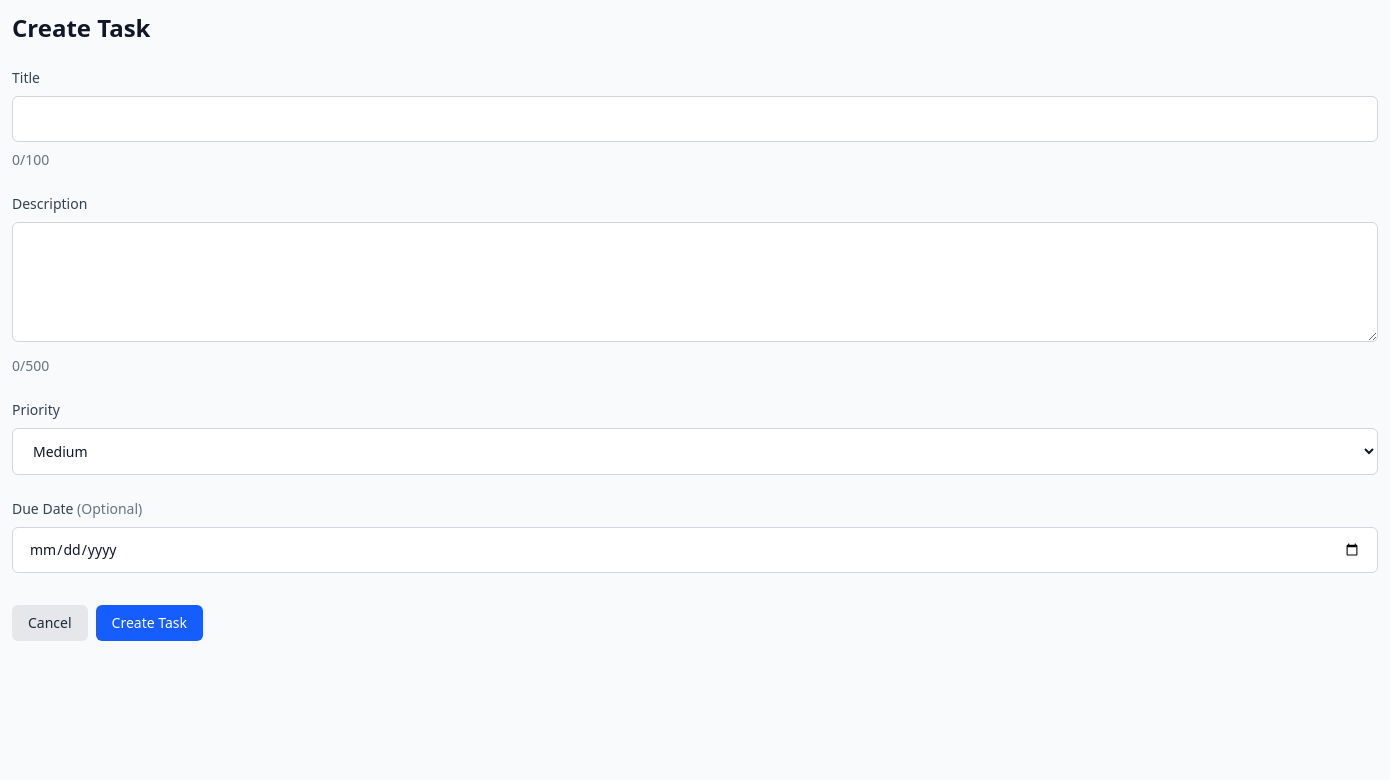
Test case: TaskForm Component › User Story 1.1: Create Task - Validation › should update character count as user types title
Type "Hello" into the field labelled "Title" at (695,119), box [12,96,1378,142]
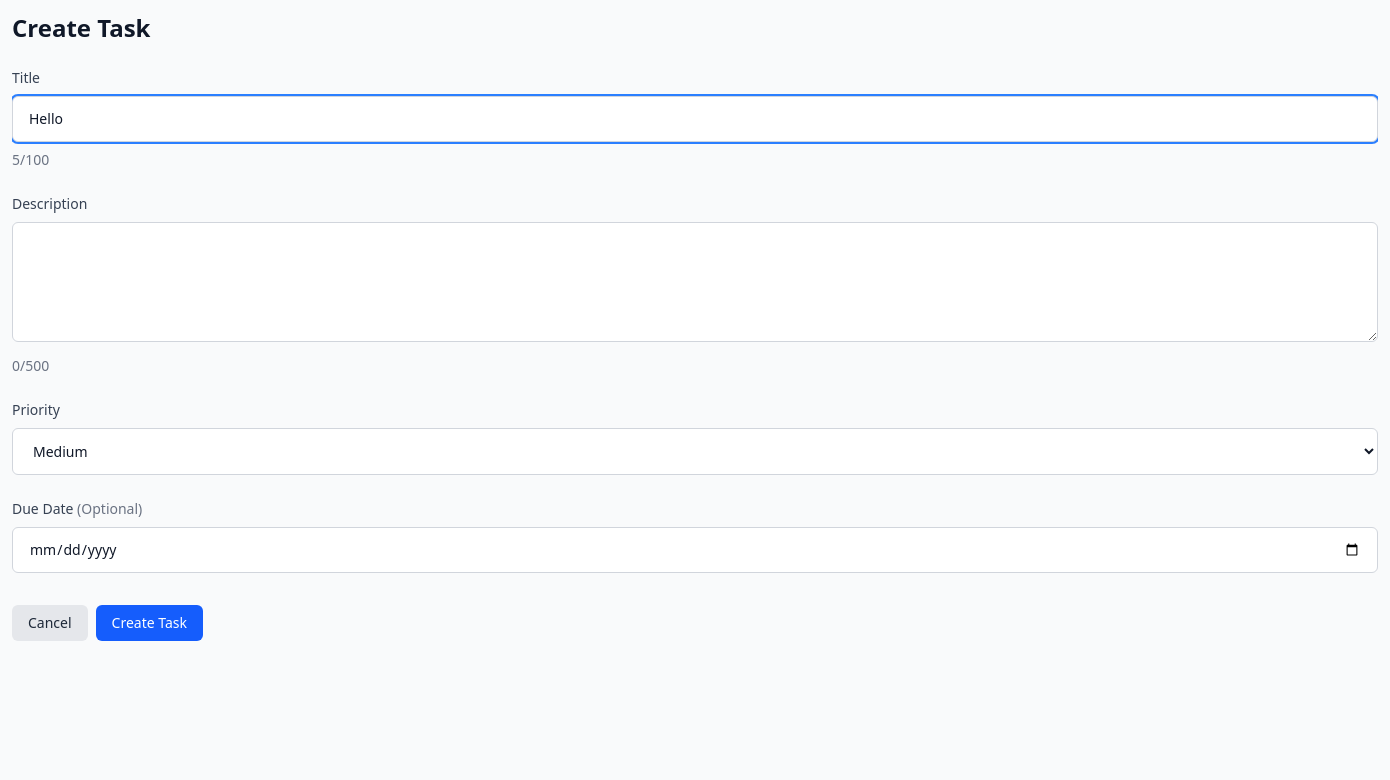
expect the text "5/100" is shown: met, box [12,150,49,169]
